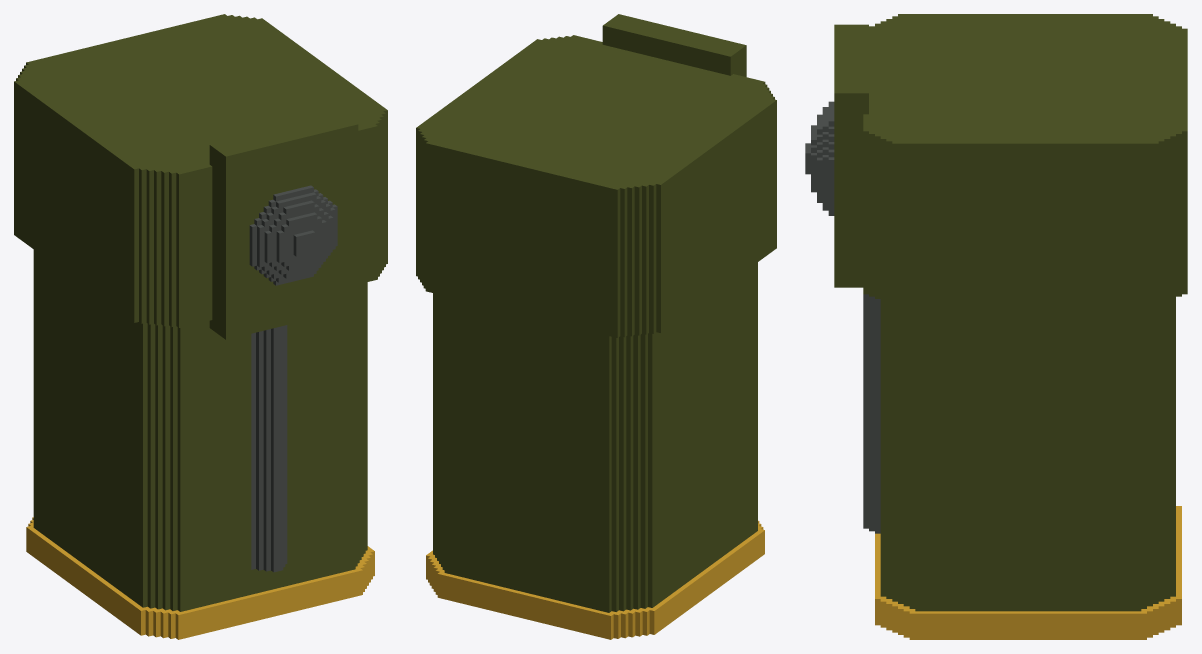
The model's file is legguard_trooper_worn_shin.glb.
3 views of the same model, side by side, from view 1: azimuth 30°, elevation 25°; view 2: azimuth 150°, elevation 25°; view 3: azimuth 270°, elevation 25° (orthographic). The views are drawn at different scales.
Parts seen in each view (by area): view 1: legguard_trooper_worn_shin:compound; view 2: legguard_trooper_worn_shin:compound; view 3: legguard_trooper_worn_shin:compound.
Part boxes in pixels (x1=…): legguard_trooper_worn_shin:compound: x1=14, y1=14, x2=387, y2=639; legguard_trooper_worn_shin:compound: x1=416, y1=14, x2=776, y2=639; legguard_trooper_worn_shin:compound: x1=805, y1=14, x2=1187, y2=639.
Bounding box in the file's own units: 0.212 × 0.396 × 0.264.
